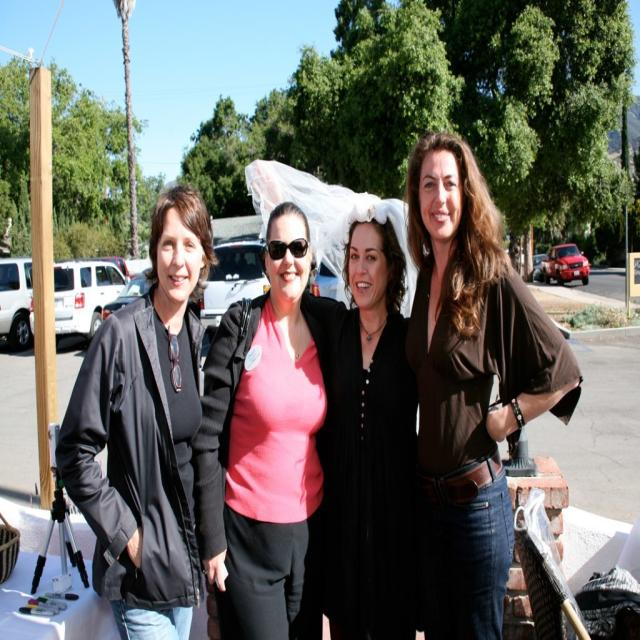car: (51, 258, 146, 351)
